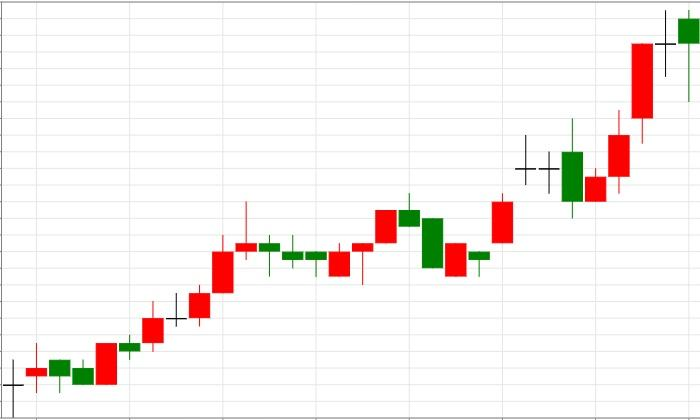three_white_soldiers_rise: (516, 43, 653, 219)
